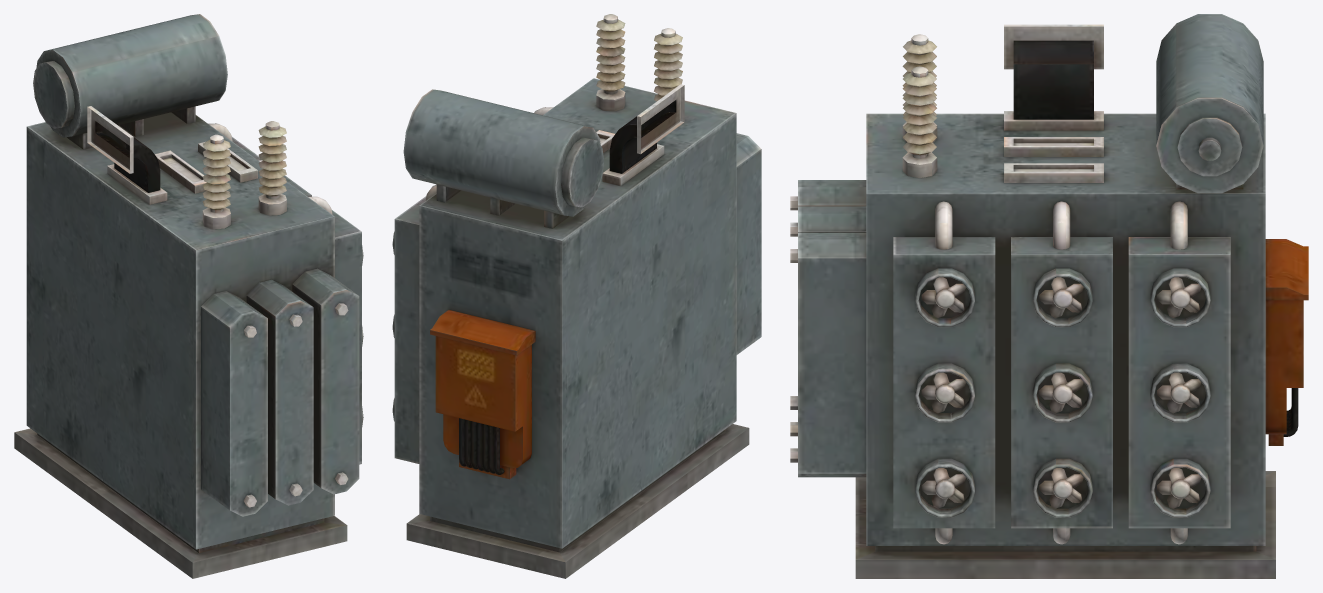
File: station-transformer.gltf
3 views of the same model, side by side, from view 1: azimuth 30°, elevation 25°; view 2: azimuth 150°, elevation 25°; view 3: azimuth 270°, elevation 25° (orthographic). The views are drawn at different scales.
Visible parts, largest first — view 1: Sketchfab_model; view 2: Sketchfab_model; view 3: Sketchfab_model.
Part boxes in pixels (<box>): Sketchfab_model: <box>14,14,363,578</box>; Sketchfab_model: <box>392,14,761,578</box>; Sketchfab_model: <box>790,14,1308,578</box>.
Bounding box in the file's own units: 1.5 × 3 × 2.91.
1 material, 1 textured.
